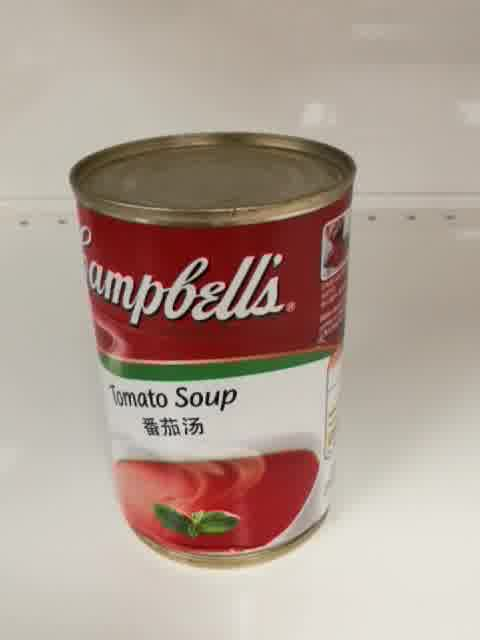tomatosoup: (68, 129, 356, 574)
